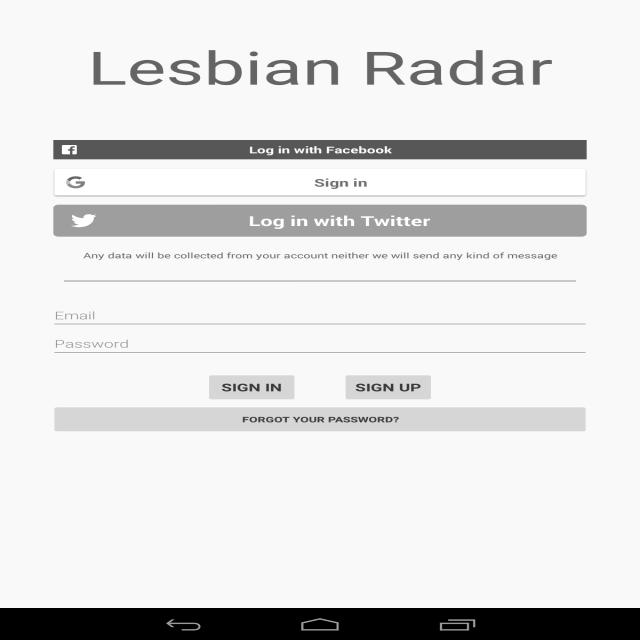Button: (47, 202, 597, 241), (45, 403, 596, 436), (48, 136, 596, 161), (202, 369, 300, 400), (341, 370, 440, 398)
EditText: (47, 304, 603, 330), (46, 336, 603, 358)
TextView: (84, 48, 562, 89), (75, 248, 573, 266)
